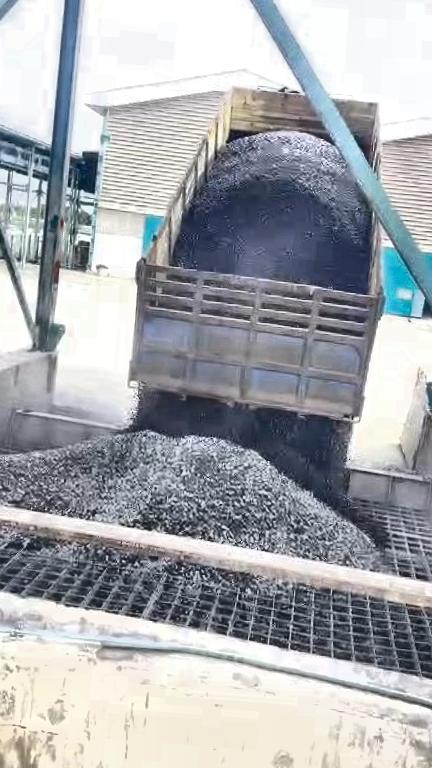gravel: (0, 432, 380, 567), (173, 133, 371, 293), (133, 389, 366, 524), (0, 527, 278, 600)
